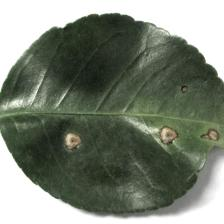canker: (47, 102, 219, 173)
